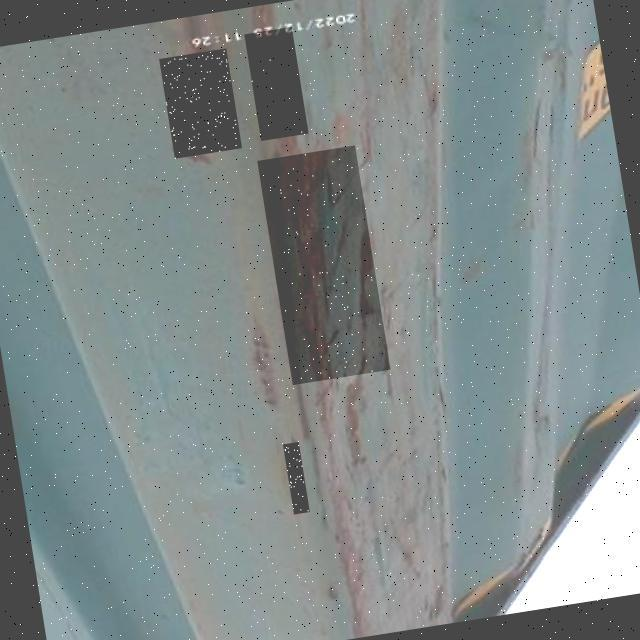Rust: (258, 145, 391, 385), (245, 27, 309, 141), (175, 49, 229, 158), (283, 442, 310, 515)
